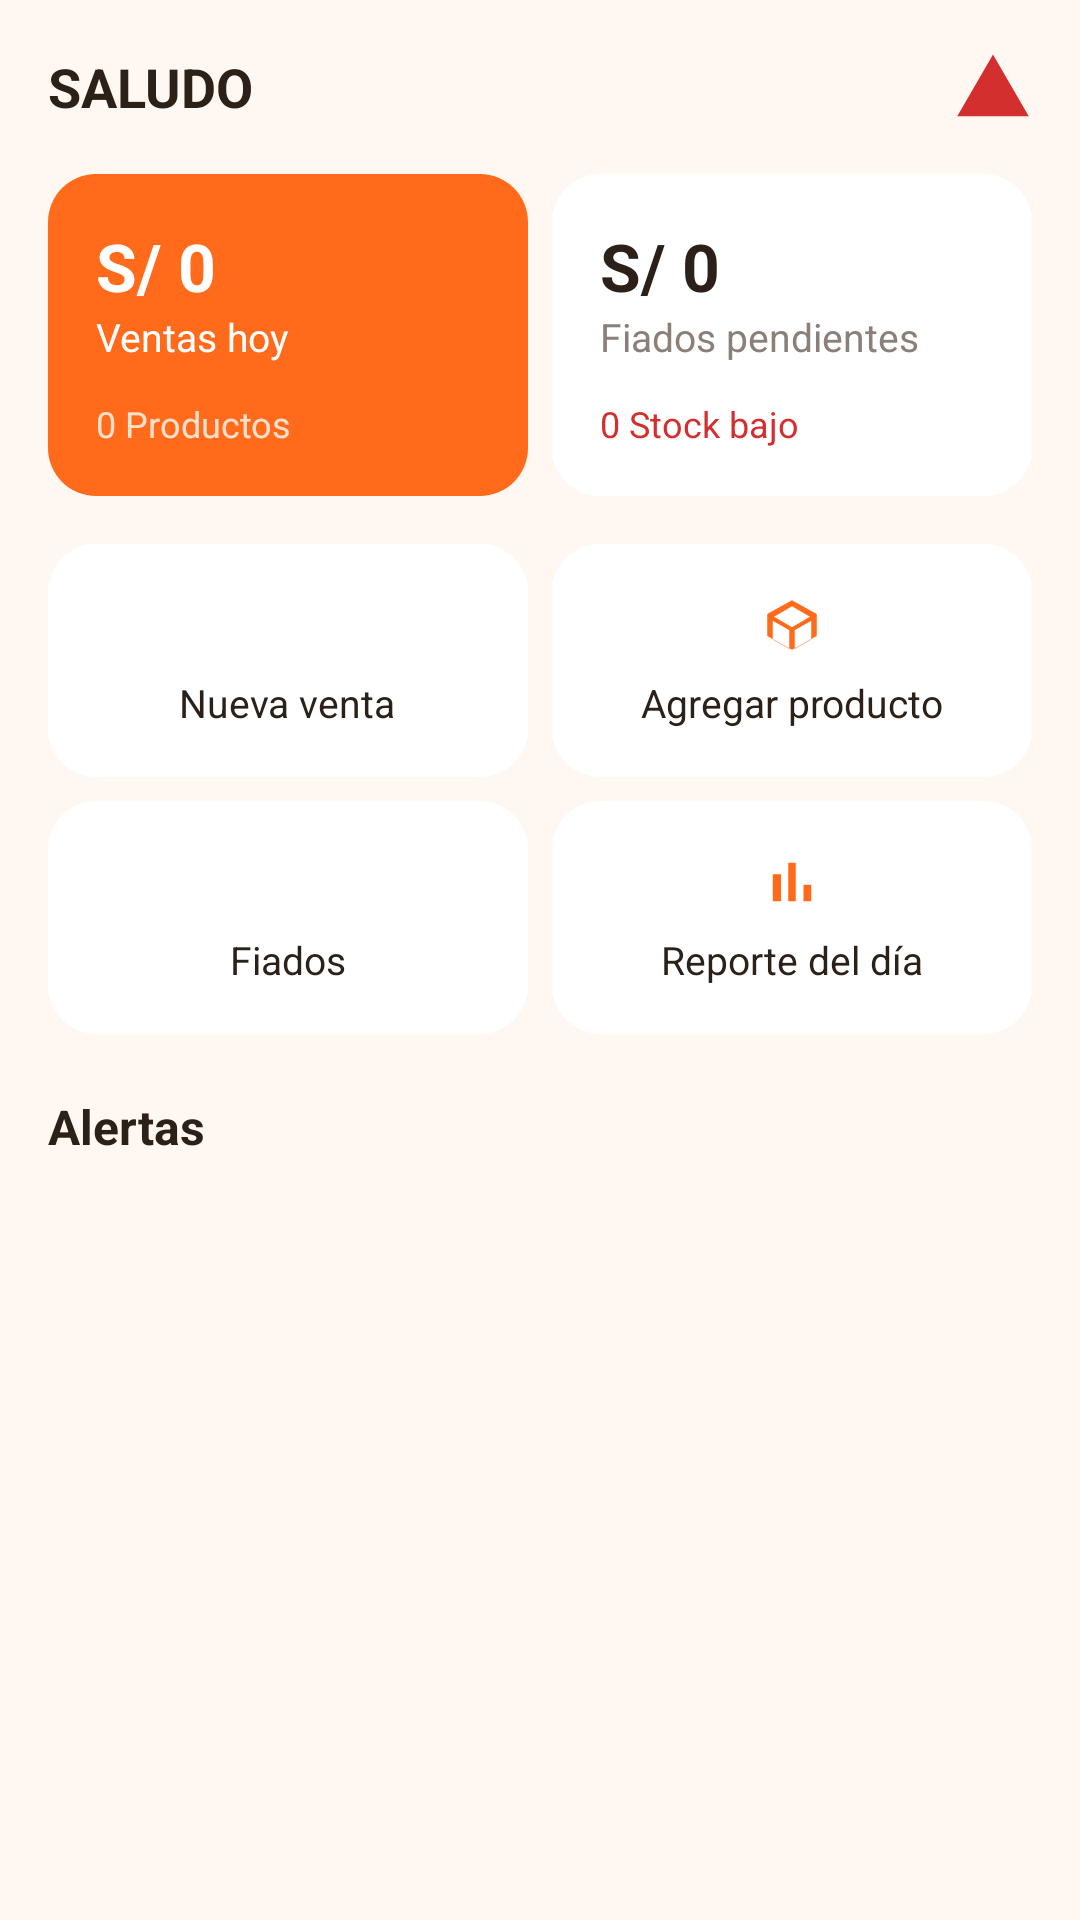

Point at icon controls on the screen. Image size 1080 x 1920, points as [x,y].
alert: [993,86]
box: [792,625]
chart: [792,882]
